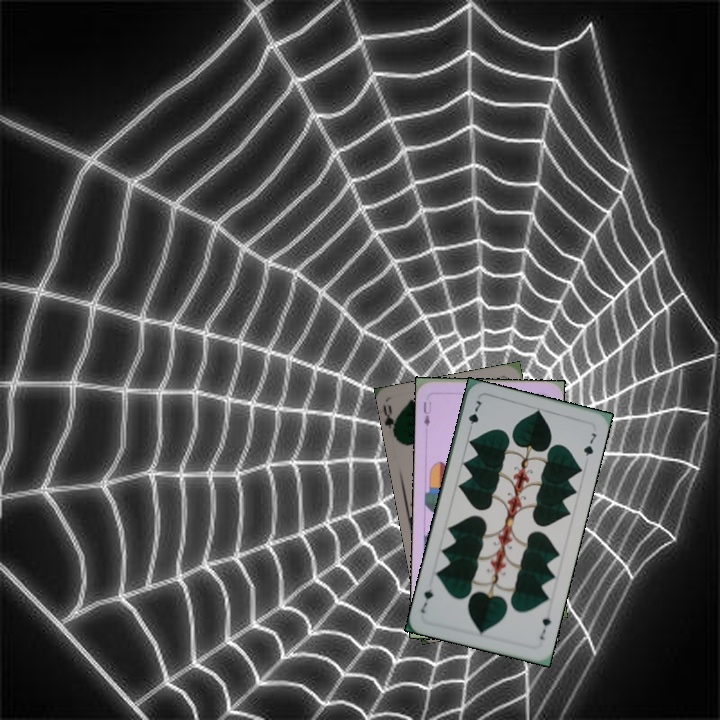EU: (419, 398, 434, 429)
G7: (464, 396, 484, 435), (536, 613, 554, 643)
GO: (381, 401, 402, 441)
